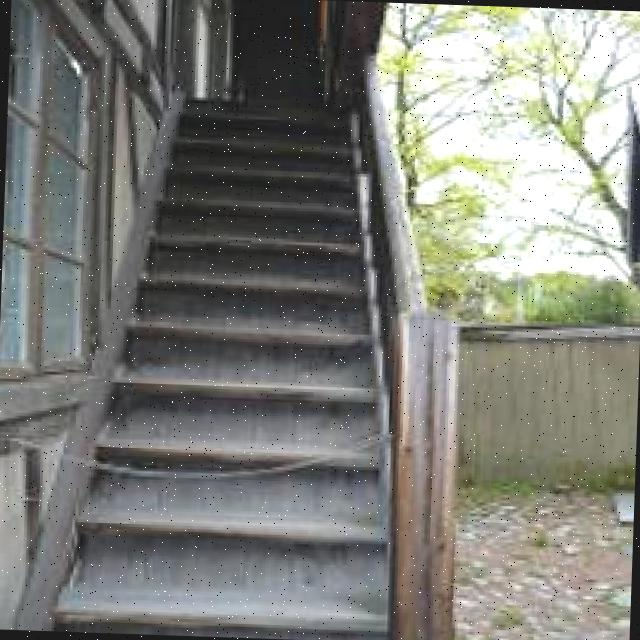stairs: (9, 80, 422, 640)
